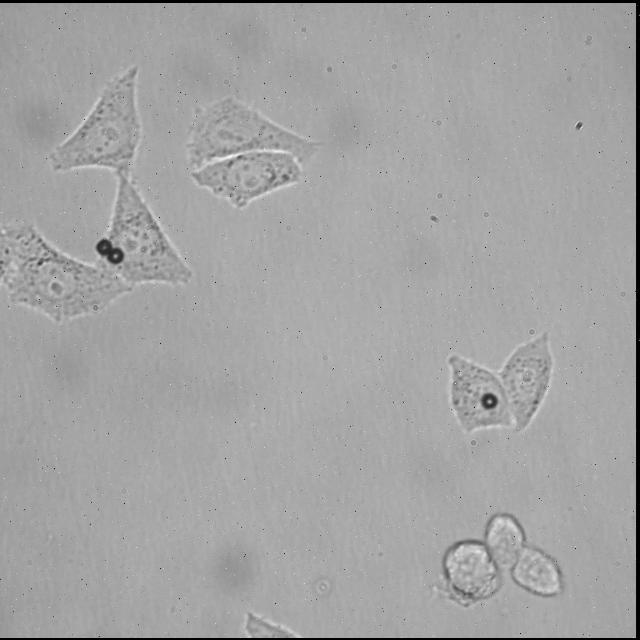microbeads: (95, 236, 114, 256), (106, 246, 124, 264), (480, 392, 496, 408)
